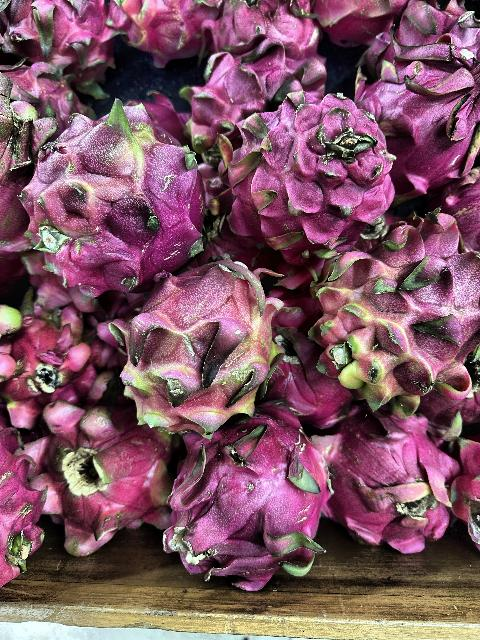buah-naga-belum-matang: (38, 97, 204, 285), (328, 230, 480, 404), (118, 276, 286, 426), (0, 70, 58, 256)
buah-naga-matang: (169, 411, 341, 587), (223, 95, 397, 247), (333, 403, 465, 562), (0, 274, 120, 442), (32, 402, 166, 550), (365, 31, 477, 193), (172, 39, 324, 154), (0, 0, 120, 96), (211, 1, 318, 62), (0, 430, 42, 584), (108, 0, 220, 56)
